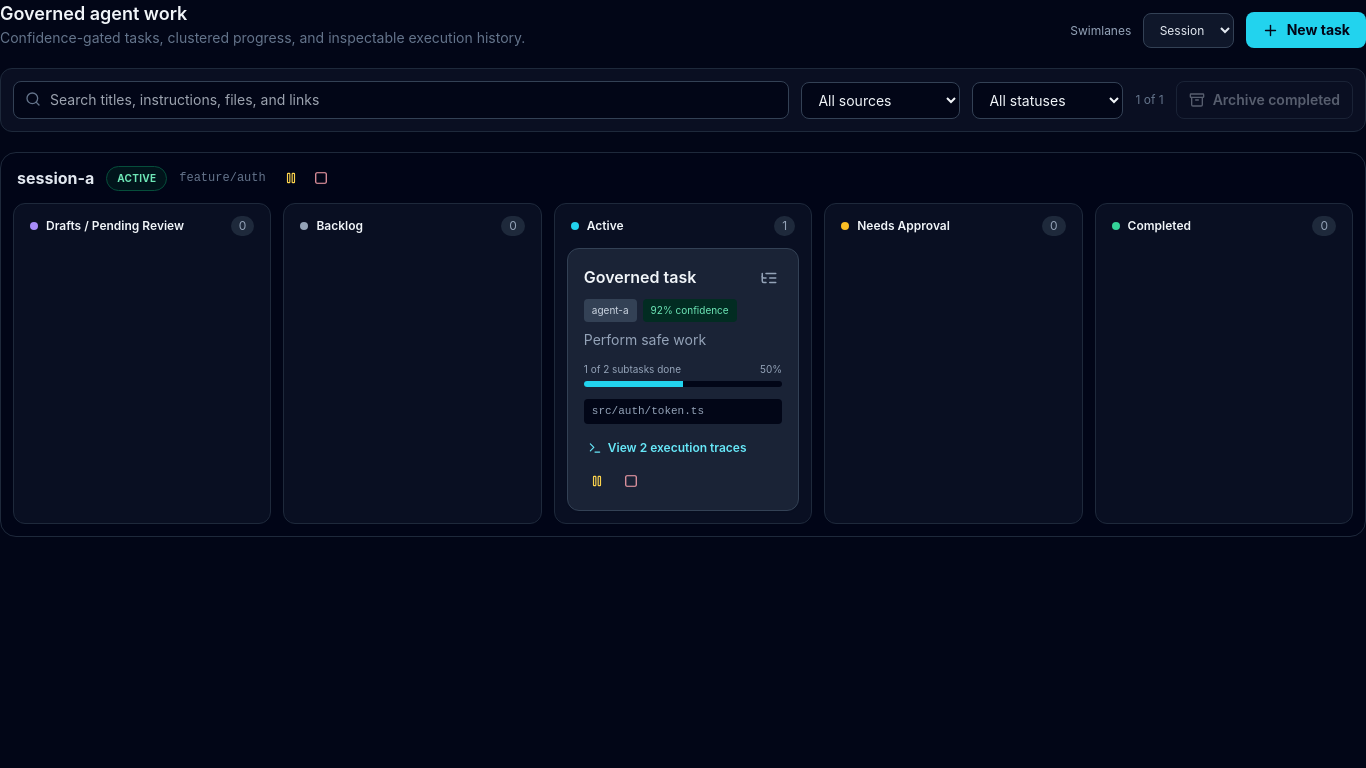
Test case: KanbanBoard governance view › navigates every execution trace attached to a task
Click the button "View 2 execution traces" at (667, 448), box [584,436,751,460]
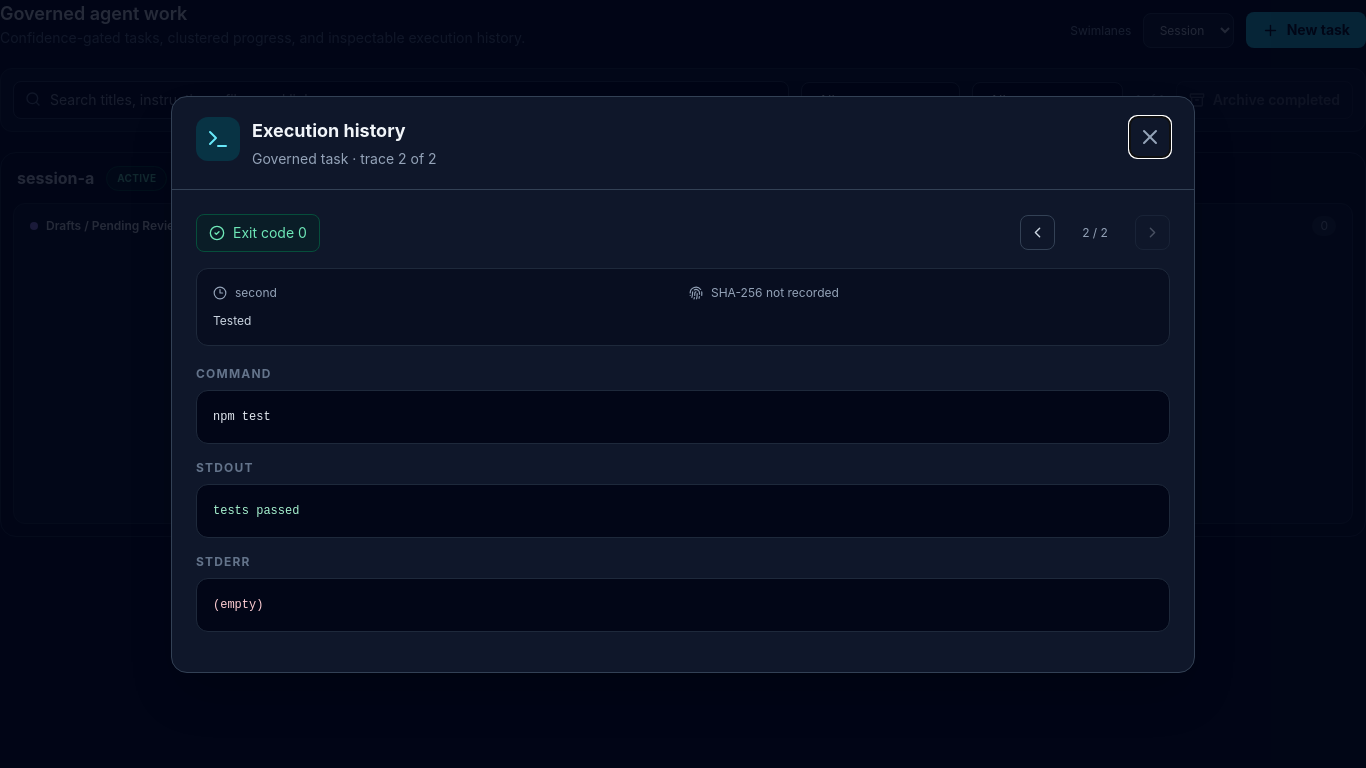
Expected: the text "npm test" is shown, [196,390,1170,444]
Click the button named "previous execution trace" at (1038, 232), box [1020,215,1055,250]
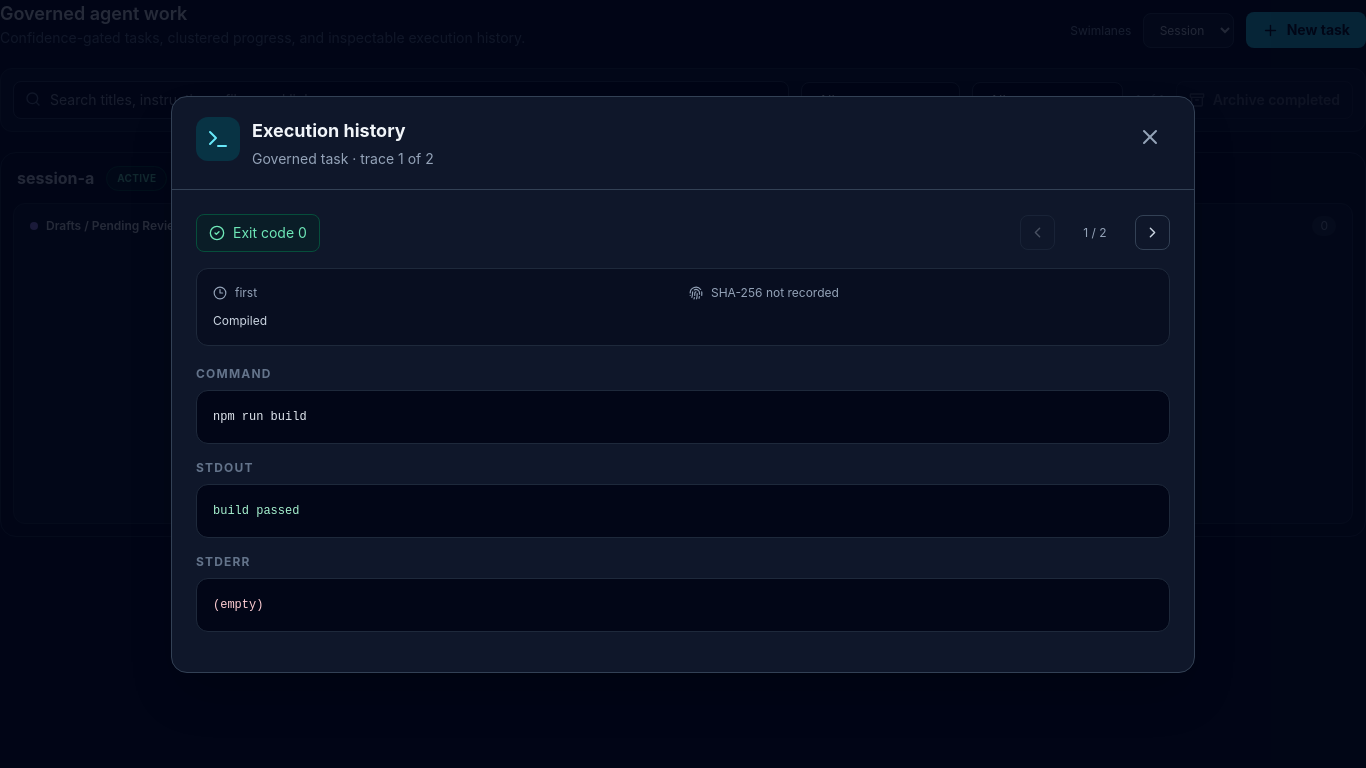
Expected: the text "npm run build" is shown, [196,390,1170,444]
Expected: the text "Compiled" is shown, [213,312,267,328]
